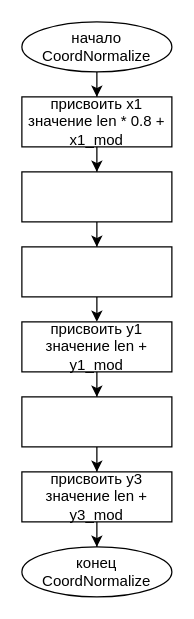
The diagram is 194 pixels wide and 619 high, and some of its shapes have lost their labels. The centre of each missing label's shape, as x and y in pixels:
"присвоить x2 значение len * 1.3 + x2_mod" goes at point 96,196.
"присвоить x3 значение len * 1.8 + x3_mod" goes at point 96,271.
"присвоить y2 значение len * 0.134 + y2_mod" goes at point 96,421.
